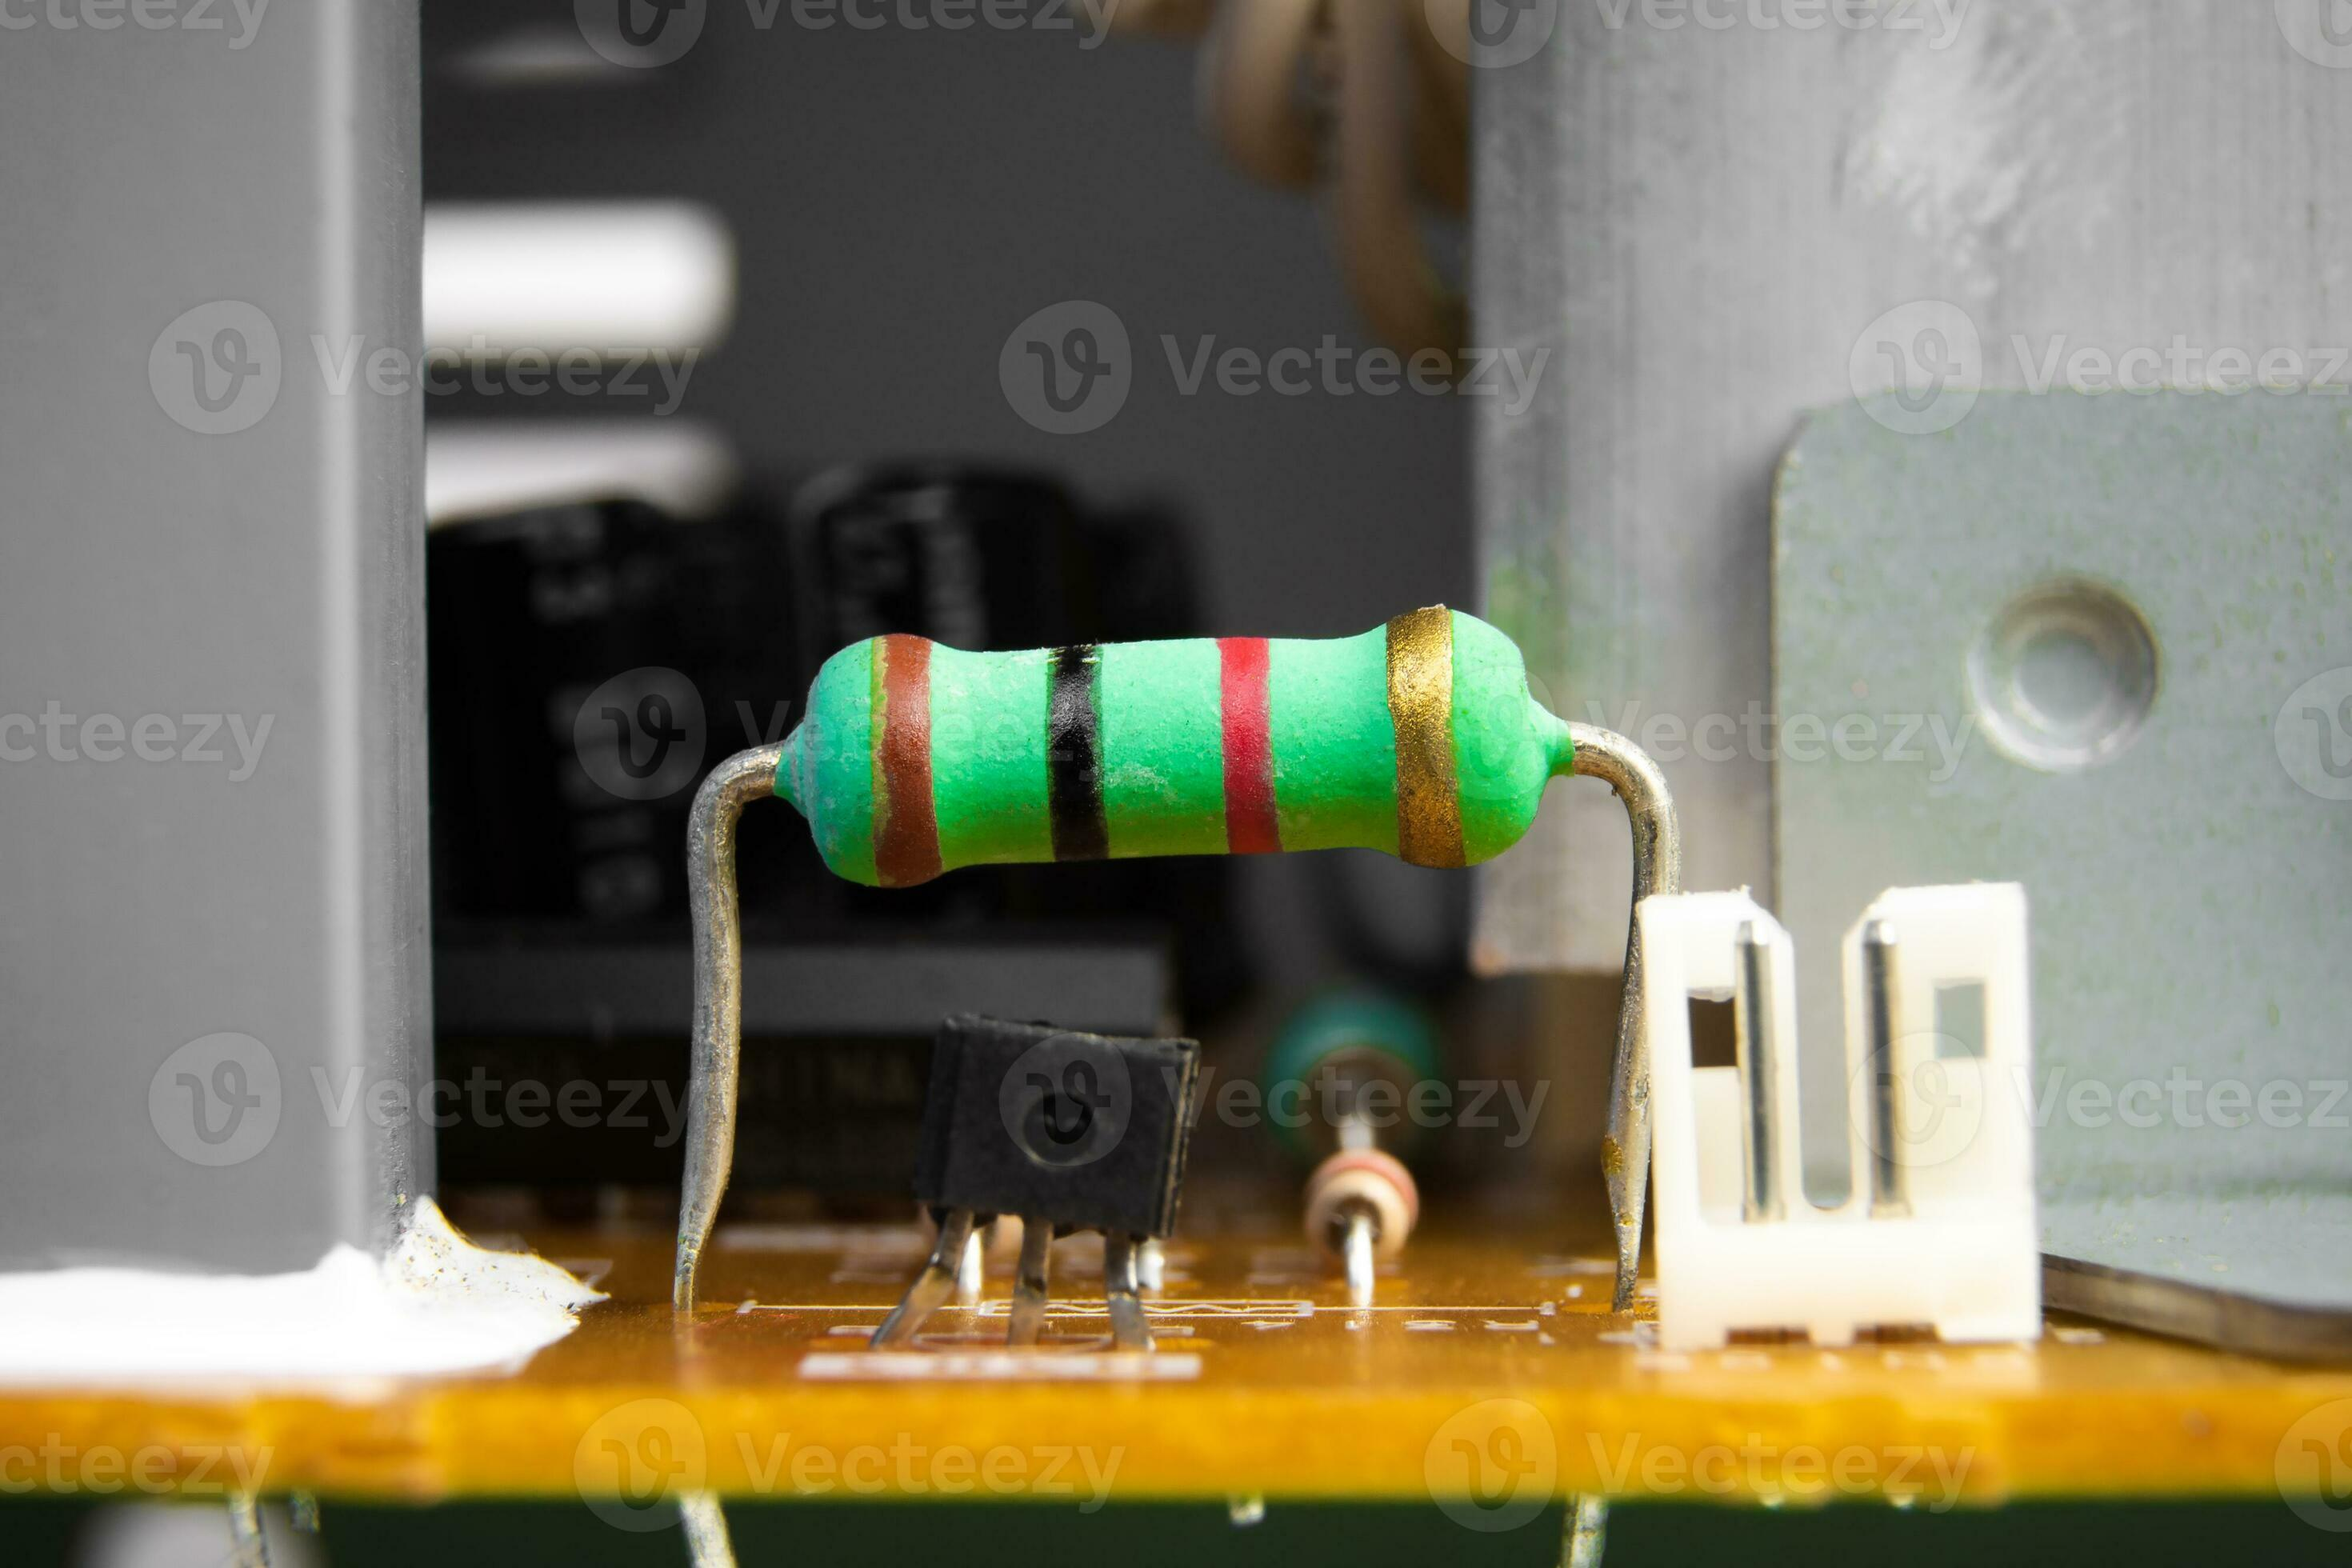resistor: (765, 602, 1568, 896)
